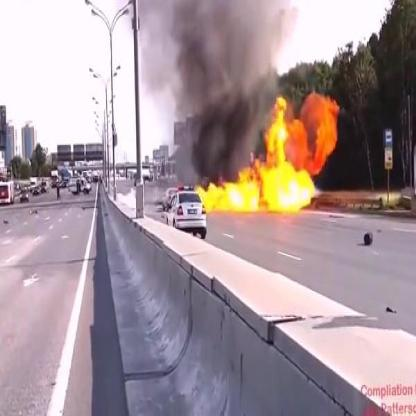fire: (198, 90, 340, 212)
